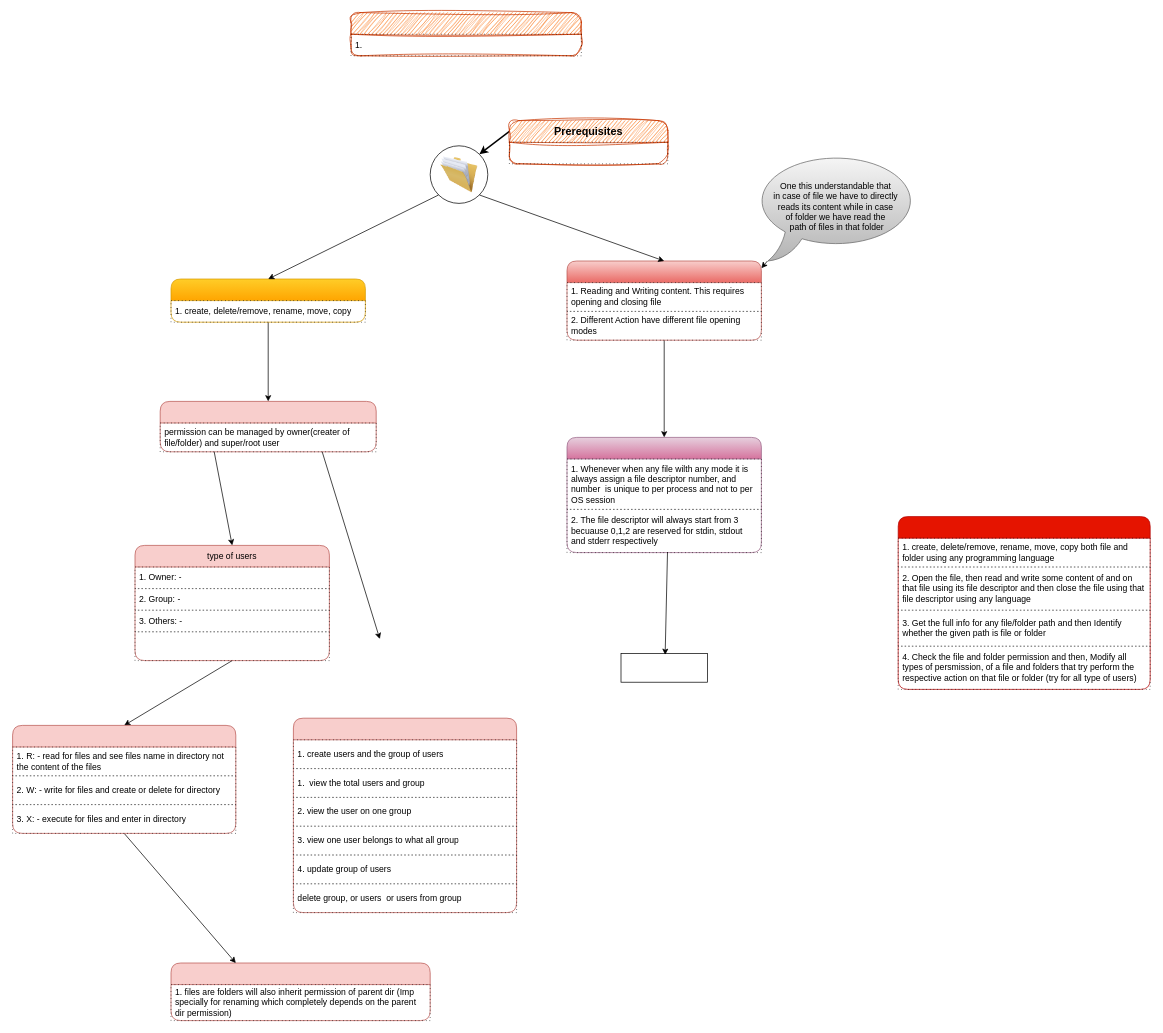
Image size: 1163x1033. Some labels were removed from this diagram. Here are the shapes that lost their labels. From the top down, the box of each, then its label:
(350, 12, 581, 56): File System
(509, 141, 668, 164): Should about path systems ( ps.svg )
(170, 278, 365, 322): Acton for files/folders
(566, 260, 761, 340): Acton in files
(159, 401, 376, 452): fiile/folder permission system
(566, 437, 761, 553): File descripter
(897, 516, 1150, 689): Practicals to do
(134, 631, 329, 661): real users and sytem users(fro services) and system internal users
(620, 653, 707, 682): should know about on cpu.svg
(12, 725, 236, 833): type of permissions a user can have
(293, 717, 517, 913): CRUD of users
(170, 962, 430, 1021): OS specific
